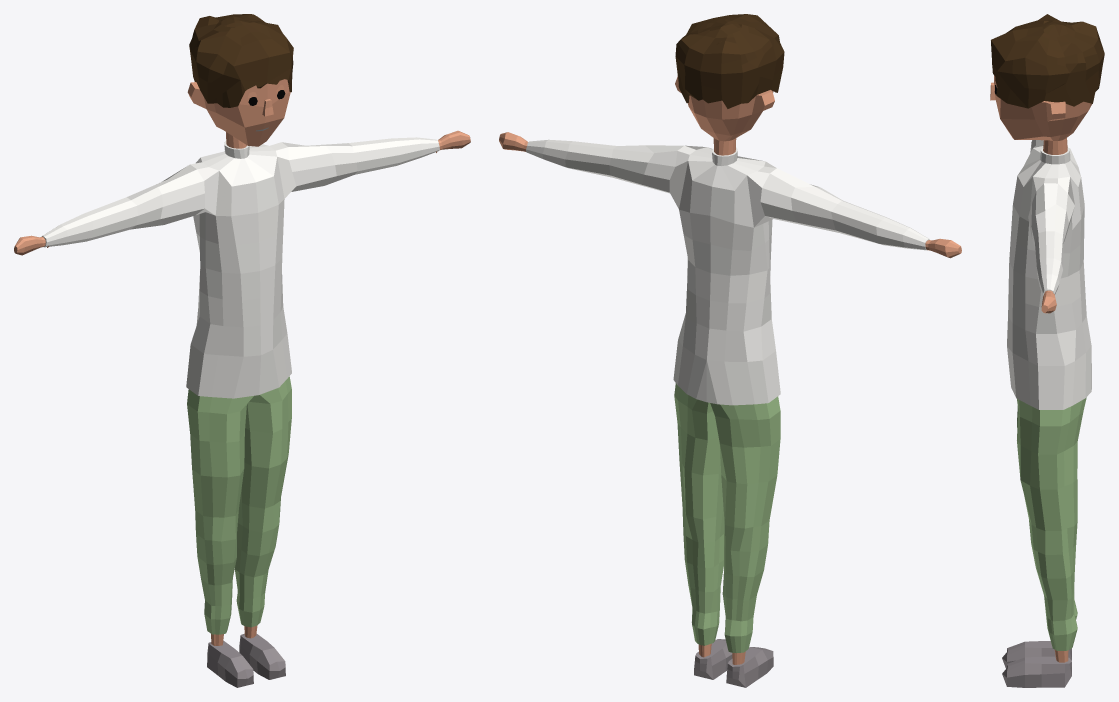
File: npcmale3.fbx
3 views of the same model, side by side, from view 1: azimuth 30°, elevation 25°; view 2: azimuth 150°, elevation 25°; view 3: azimuth 270°, elevation 25° (orthographic).
Parts seen in each view (by area): view 1: Cylinder.008; view 2: Cylinder.008; view 3: Cylinder.008.
Boxes of the visible parts, x1,y1,x2,y2 form: Cylinder.008: [14, 14, 470, 687]; Cylinder.008: [499, 14, 961, 687]; Cylinder.008: [990, 14, 1104, 687].
Bounding box in the file's own units: 128 × 174 × 27.77.
